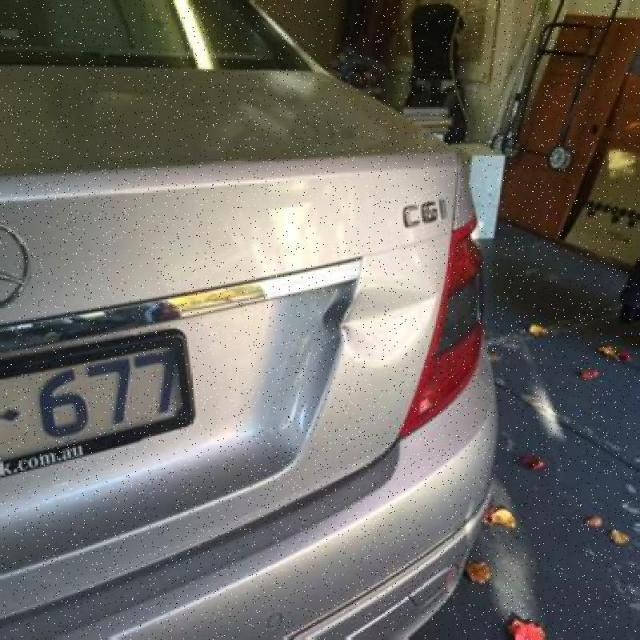dent: (342, 298, 434, 366)
